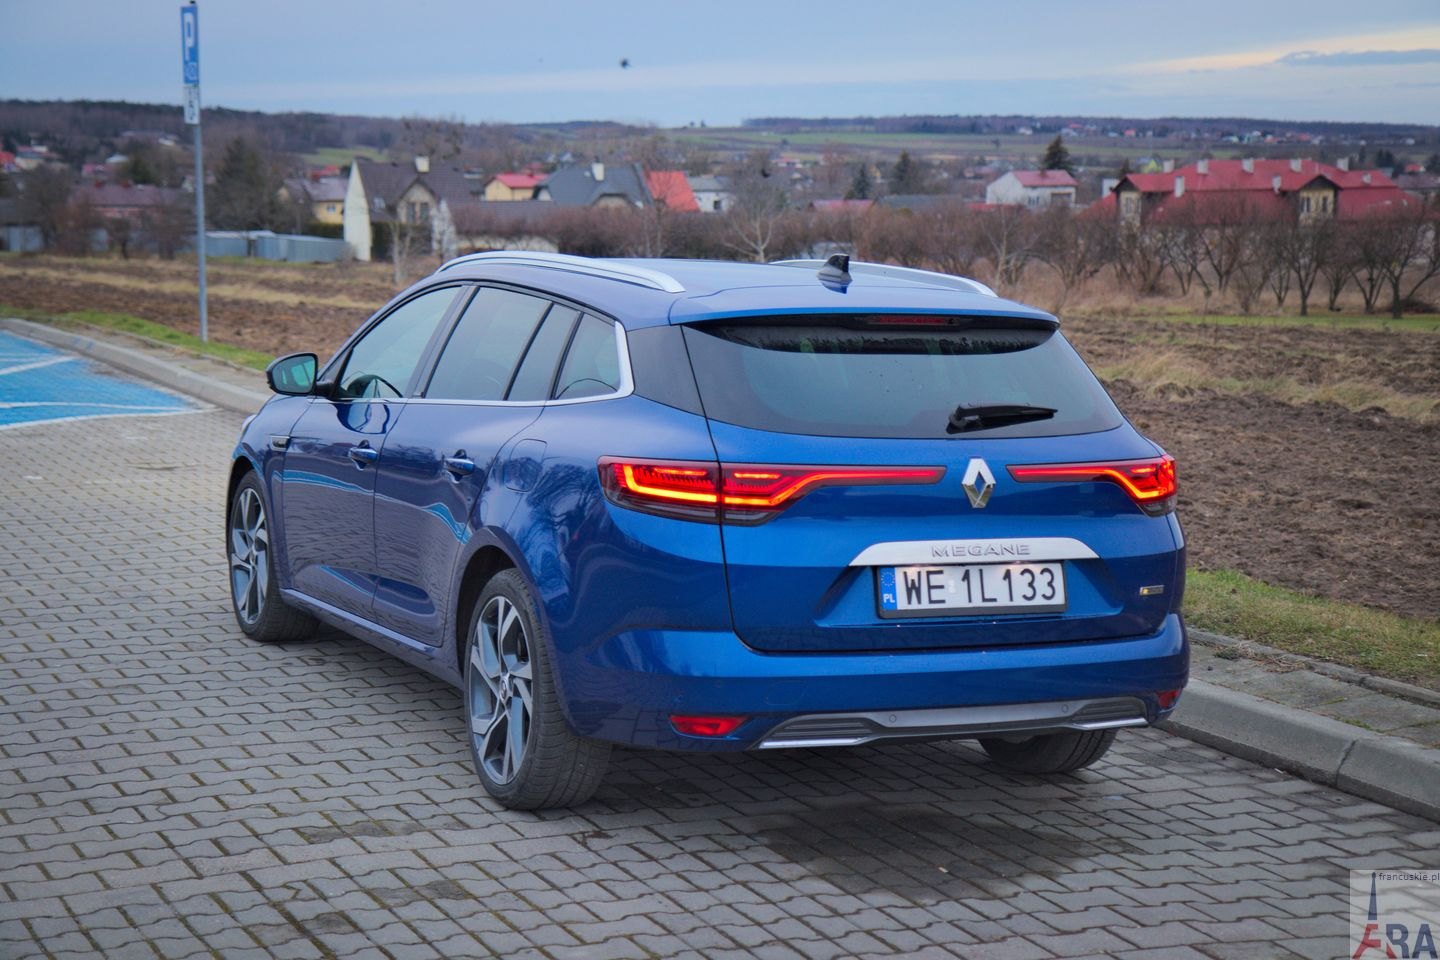tablica: (875, 565, 1068, 614)
